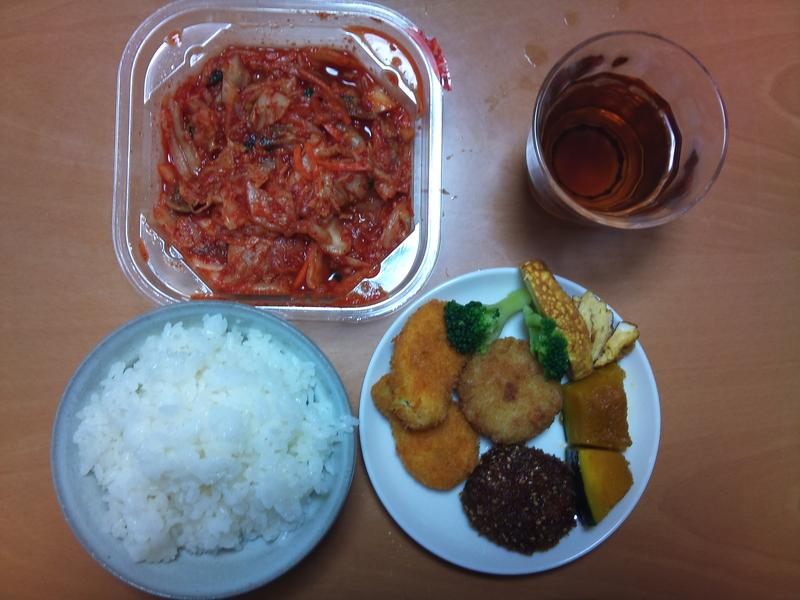plate: (3, 41, 395, 265)
rice: (51, 56, 381, 263)
